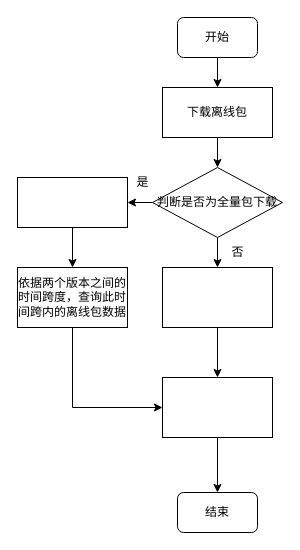
Some shapes in this 300 by 550 pixel diagram are drawn without their labels. The shapes that lost their labels are listed below. From the top down, each one's centre as x and y in pixels, then its label:
At pixel 72 202: "查询上一个版本打包时间".
At pixel 217 297: "查询此手册的所有数据".
At pixel 217 407: "将所有数据写入压缩中并返回文件流到客户端".
